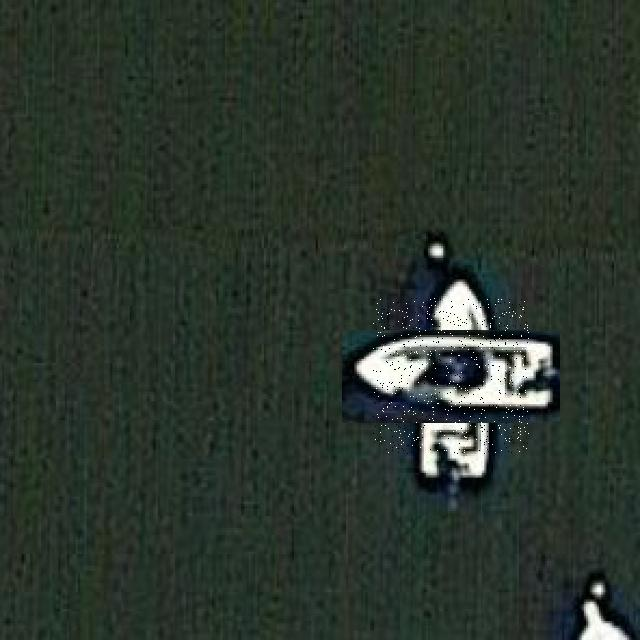boat: (373, 298, 529, 454)
